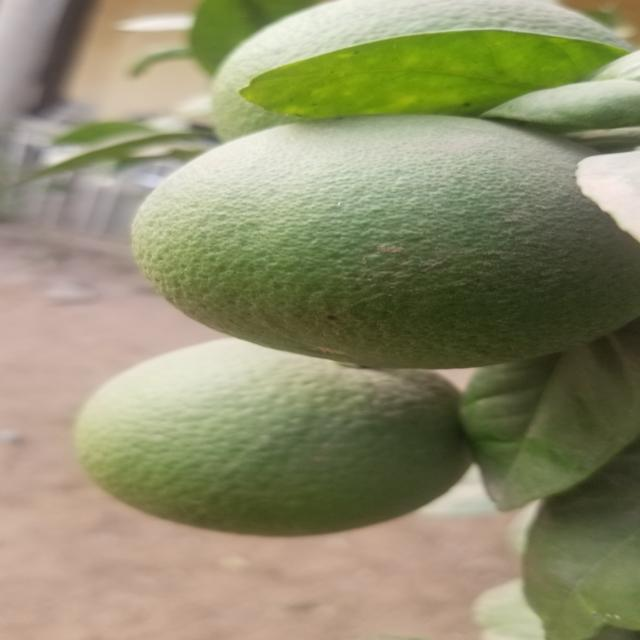Unripe: (160, 112, 640, 364), (72, 338, 467, 535), (225, 0, 630, 144)
